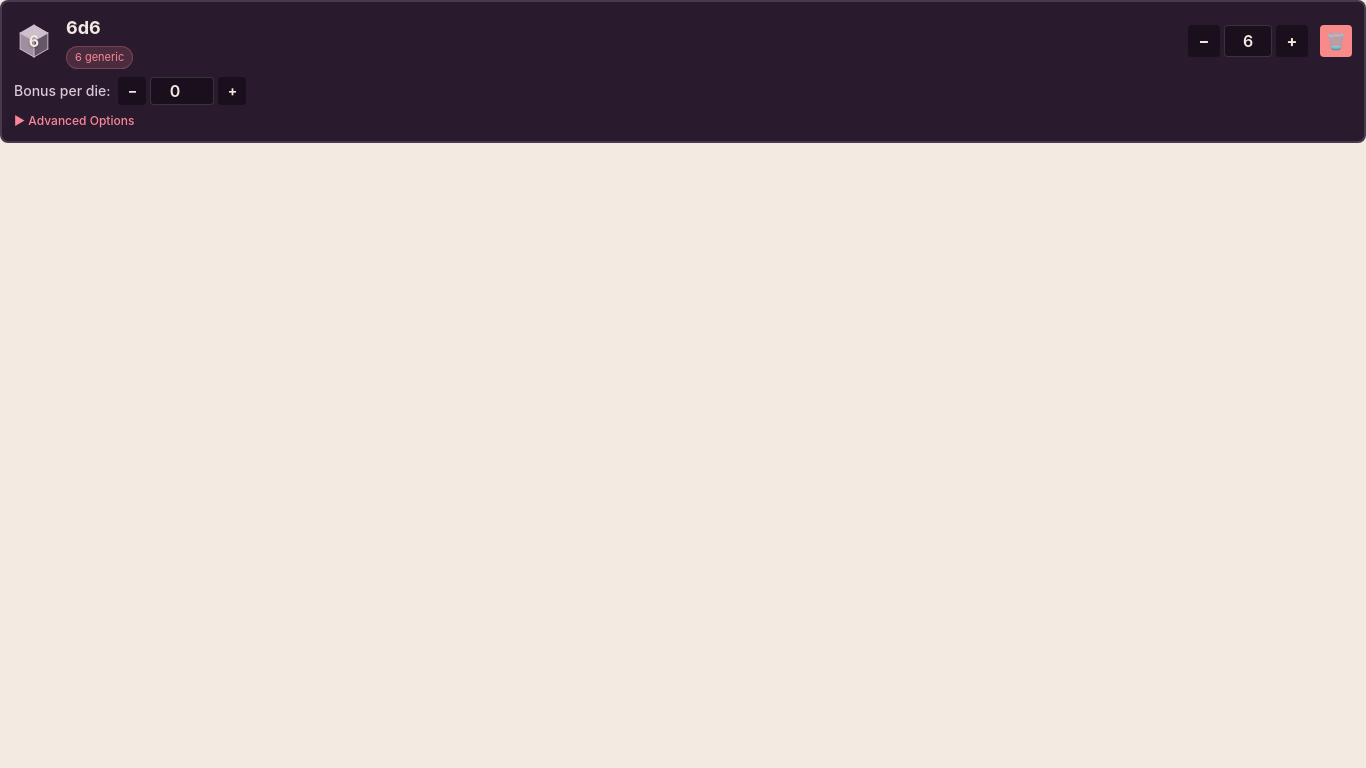
Test: DiceEntryCard removed-dice notice › says "die" when a shrink gives up exactly one generic die
Click the button "▶ Advanced Options": click(80, 120) [14,112,1352,128]
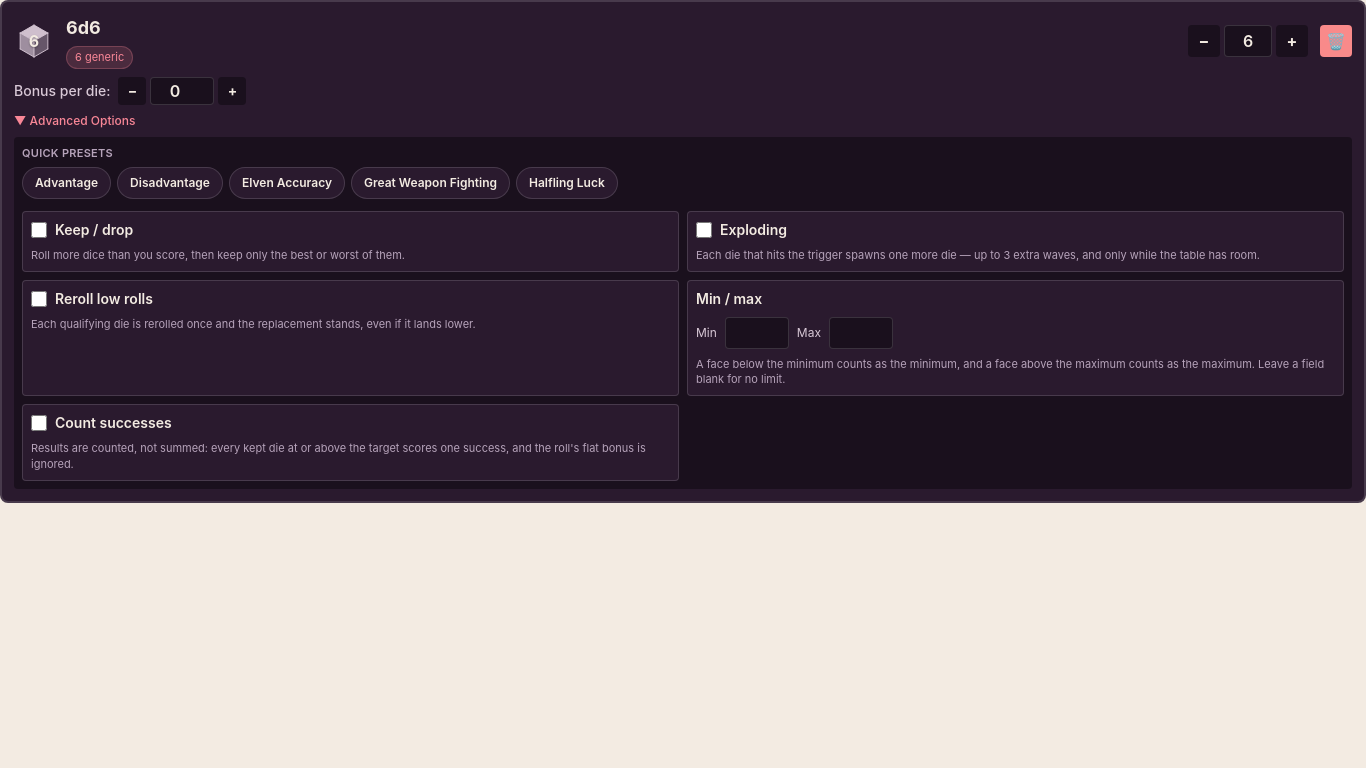
Replace the text in the field named "D6 quantity" with "5": (1248, 41) [1224,25,1272,57]
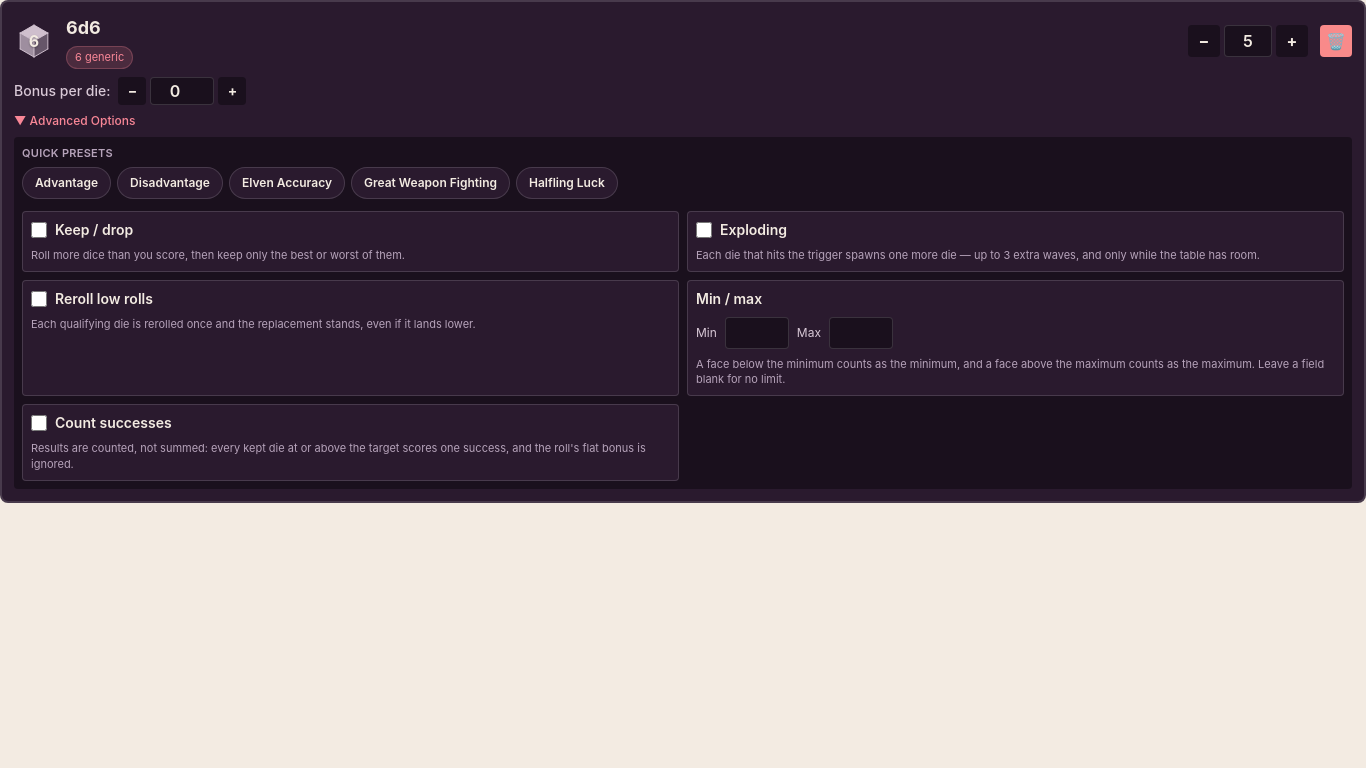
Leave the field named "D6 quantity", box [1224,25,1272,57]
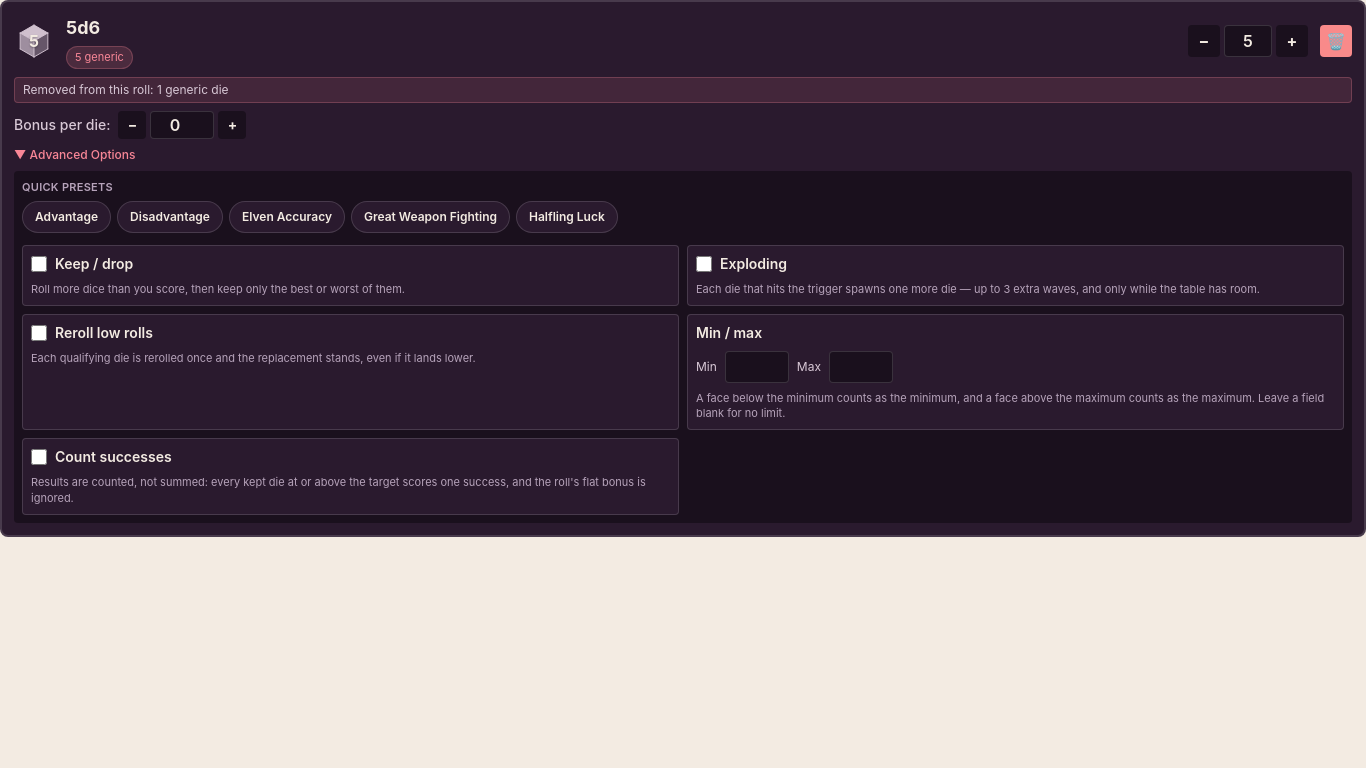
Check: the message reads "Removed from this roll: 1 generic die", box [14,76,1352,102]
